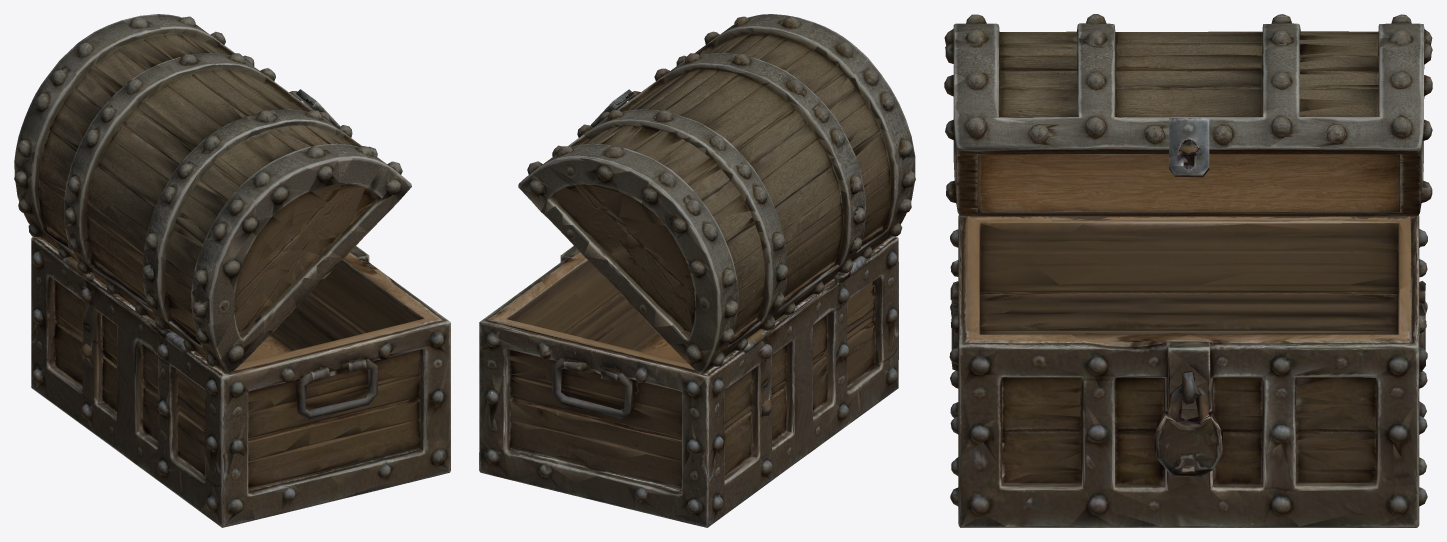
3 renders of one model, left to right at view 1: azimuth 30°, elevation 25°; view 2: azimuth 150°, elevation 25°; view 3: azimuth 270°, elevation 25°, orthographic. The views are drawn at different scales.
Visible parts, largest first — view 1: tripo_part_11, Chestbox.001, tripo_part_7; view 2: tripo_part_11, Chestbox.001, tripo_part_6; view 3: Chestbox.001, tripo_part_11, tripo_part_0, tripo_part_1.
Boxes of the visible parts, box(x1,y1,x2,y2) form: tripo_part_11: box(14, 14, 411, 374); Chestbox.001: box(31, 237, 450, 527); tripo_part_7: box(296, 358, 377, 420); tripo_part_11: box(518, 14, 915, 374); Chestbox.001: box(479, 236, 898, 527); tripo_part_6: box(552, 358, 633, 419); Chestbox.001: box(949, 215, 1427, 527); tripo_part_11: box(944, 14, 1432, 216); tripo_part_0: box(1154, 371, 1222, 477); tripo_part_1: box(1169, 118, 1209, 177).
Bounding box in the file's own units: 0.7705 × 0.9595 × 1.
